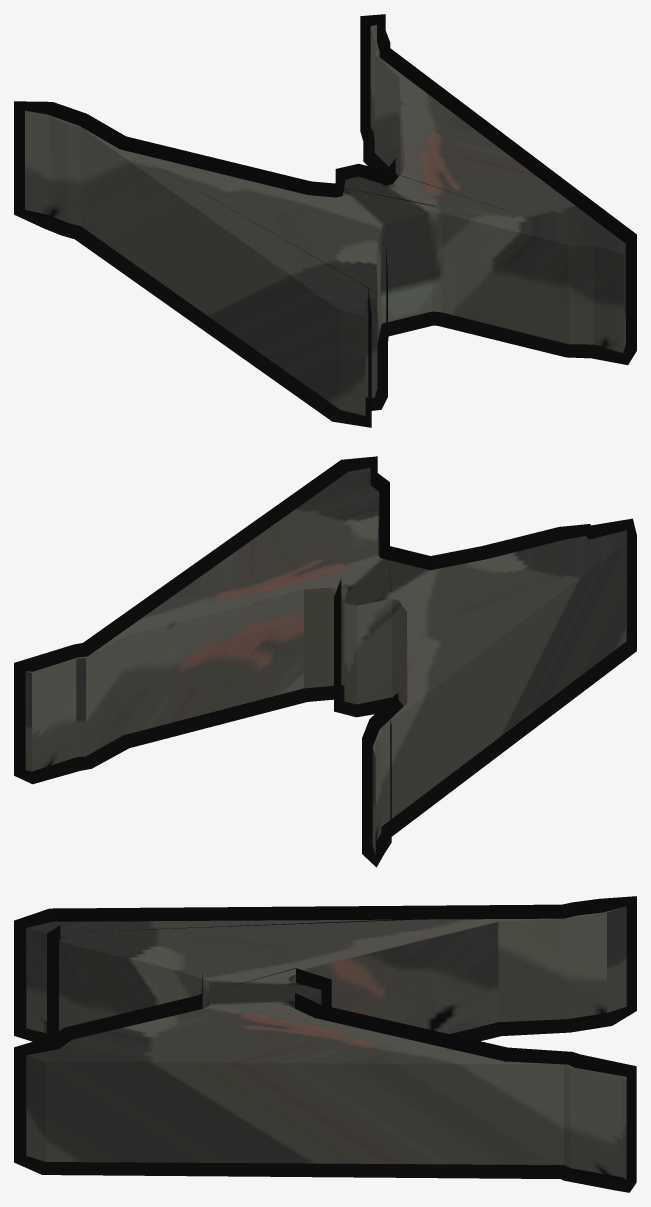
File: Building_AncientTankTrap_Things_Building_Ruins_AncientTankTrap_AncientTankTrapB.glb
3 renders of one model, top to bottom at view 1: azimuth 30°, elevation 25°; view 2: azimuth 150°, elevation 25°; view 3: azimuth 270°, elevation 25°, orthographic.
Visible parts, largest first — view 1: Body, Outline; view 2: Body, Outline; view 3: Body, Outline.
Boxes of the visible parts, <box> form: Body: <box>25,25,625,415</box>; Outline: <box>14,14,636,427</box>; Body: <box>25,467,626,854</box>; Outline: <box>14,456,636,867</box>; Body: <box>26,906,626,1179</box>; Outline: <box>14,896,636,1192</box>.
Bounding box in the file's own units: 0.9155 × 0.2938 × 1.33.
Materials: 2 (1 with a texture image).
